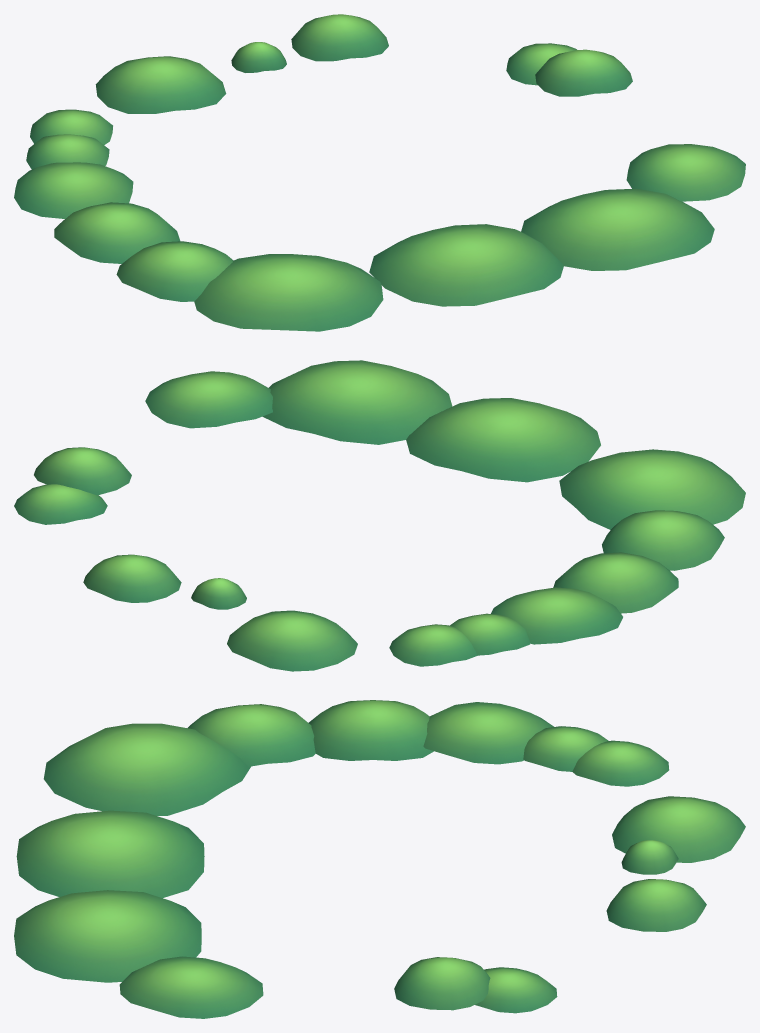
The model's file is CBS_Ground_hill.FBX.
The picture shows the model from 3 angles, top to bottom: view 1: azimuth 30°, elevation 25°; view 2: azimuth 150°, elevation 25°; view 3: azimuth 270°, elevation 25°; orthographic projection. The views are drawn at different scales.
Visible parts, largest first — view 1: CBS_Ground_hill; view 2: CBS_Ground_hill; view 3: CBS_Ground_hill.
Part boxes in pixels (box(x1,y1,x2,y2)): CBS_Ground_hill: box(14, 14, 745, 331); CBS_Ground_hill: box(14, 360, 745, 671); CBS_Ground_hill: box(14, 700, 745, 1018).
Size of the model in its own units: 16233 by 925 by 15906.
